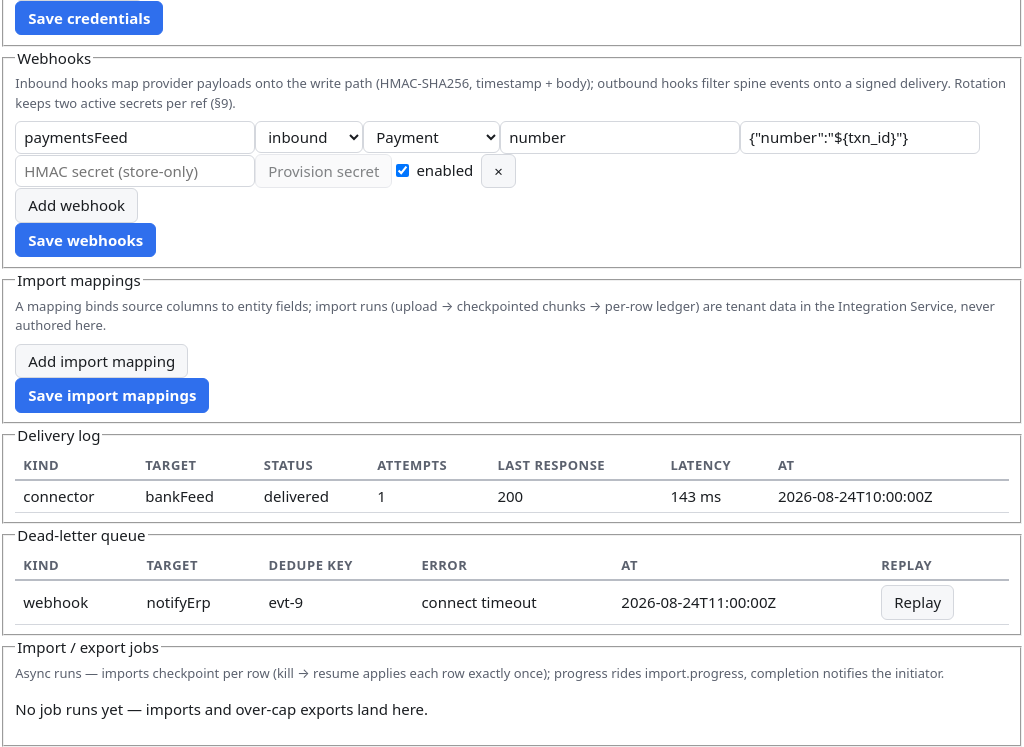
Test: Integrations (PHASE-6 §3/§9) › renders the delivery log beside the editors and replays DLQ entries
The image size is (1024, 747).
(page scrolled)
Expected: the text "delivered" is shown, [256, 480, 369, 512]
Expected: the text "143 ms" is shown, [662, 480, 770, 512]
Step 1. Click the button named "Replay DLQ entry dlq-1" → (918,603), box [881, 585, 954, 620]
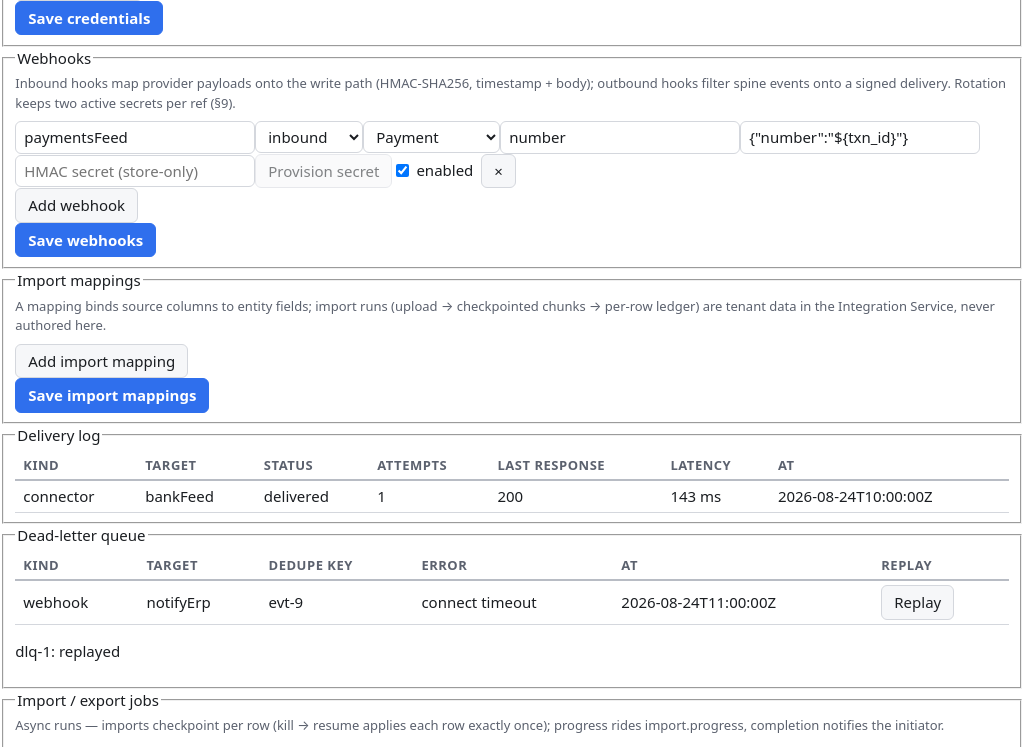
Expected: the text "dlq-1: replayed" is shown, [15, 641, 120, 661]
